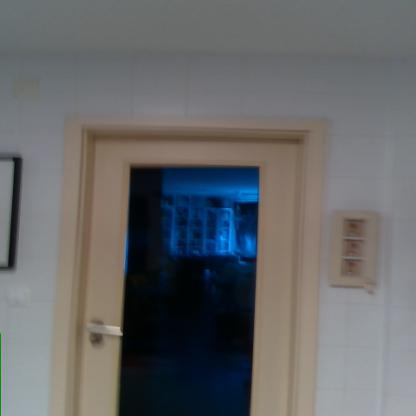closed: (47, 116, 308, 416)
